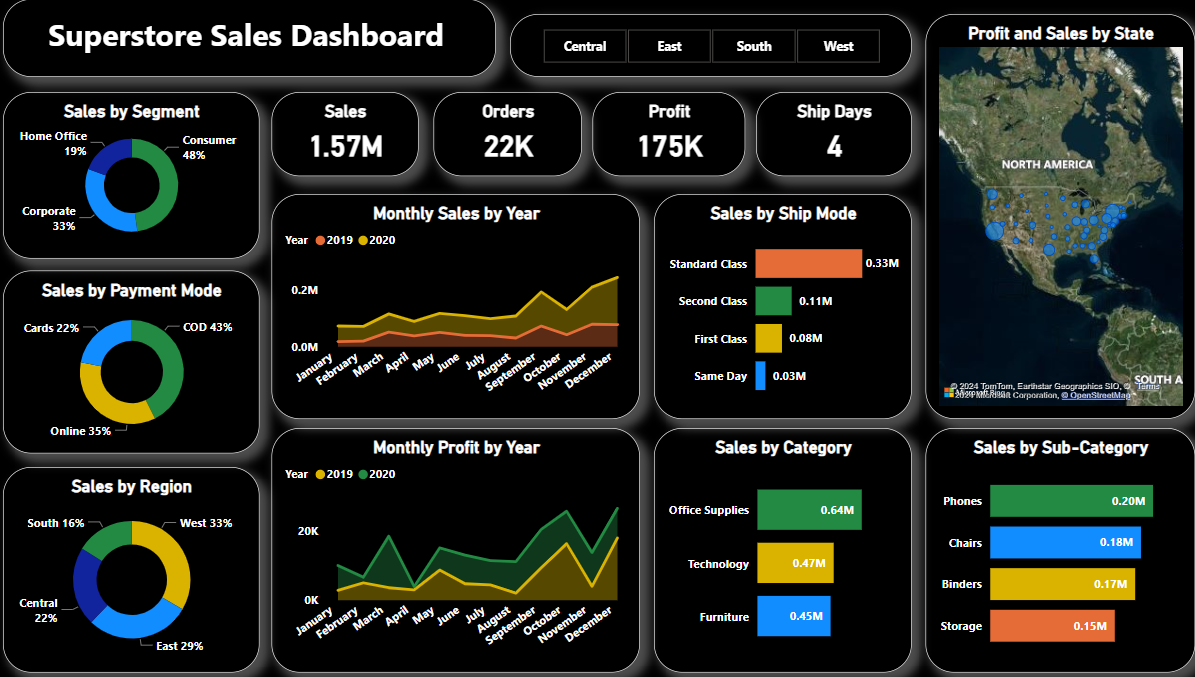

The dashboard page shown, as its layout file describes it:
{"tool":"powerbi","page":{"name":"Page 1","canvas":[1280,720],"ordinal":0},"visuals":[{"type":"clusteredBarChart","title":"Sales by Category","fields":{"Category":["SuperStore_Sales_Dataset.Category"],"Y":["Sum(SuperStore_Sales_Dataset.Sales)"]},"box":[705.7,454.6,273.4,259.1],"z":0},{"type":"clusteredBarChart","title":"Sales by Sub-Category","fields":{"Category":["SuperStore_Sales_Dataset.Sub-Category"],"Y":["Sum(SuperStore_Sales_Dataset.Sales)"]},"box":[993.4,454.6,286.1,259.1],"z":1000},{"type":"clusteredBarChart","title":"Sales by Ship Mode","fields":{"Category":["SuperStore_Sales_Dataset.Ship Mode"],"Y":["Sum(SuperStore_Sales_Dataset.Sales)"]},"box":[705.7,206.6,273.4,238.4],"z":2000},{"type":"stackedAreaChart","title":"Monthly Sales by Year","fields":{"Y":["Sum(SuperStore_Sales_Dataset.Sales)"],"Category":["SuperStore_Sales_Dataset.Order Date.Variation.Date Hierarchy.Month"],"Series":["SuperStore_Sales_Dataset.Order Date.Variation.Date Hierarchy.Year"]},"box":[300.4,206.6,391,238.4],"z":3000},{"type":"stackedAreaChart","title":"Monthly Profit by Year","fields":{"Category":["SuperStore_Sales_Dataset.Order Date.Variation.Date Hierarchy.Month"],"Series":["SuperStore_Sales_Dataset.Order Date.Variation.Date Hierarchy.Year"],"Y":["Sum(SuperStore_Sales_Dataset.Profit)"]},"box":[300.4,454.6,391,259.1],"z":4000},{"type":"map","title":"Profit and Sales by State","fields":{"Category":["SuperStore_Sales_Dataset.State"],"Size":["Sum(SuperStore_Sales_Dataset.Sales)"]},"box":[993.4,15.9,286.1,429.1],"z":5000},{"type":"donutChart","title":"Sales by Segment","fields":{"Category":["SuperStore_Sales_Dataset.Segment"],"Y":["Sum(SuperStore_Sales_Dataset.Sales)"]},"box":[15.9,98.5,271.8,176.4],"z":6000},{"type":"donutChart","title":"Sales by Payment Mode","fields":{"Category":["SuperStore_Sales_Dataset.Payment Mode"],"Y":["Sum(SuperStore_Sales_Dataset.Sales)"]},"box":[15.9,287.7,271.8,193.9],"z":7000},{"type":"donutChart","title":"Sales by Region","fields":{"Category":["SuperStore_Sales_Dataset.Region"],"Y":["Sum(SuperStore_Sales_Dataset.Sales)"]},"box":[15.9,495.9,271.8,217.7],"z":8000},{"type":"slicer","fields":{"Values":["SuperStore_Sales_Dataset.Region"]},"box":[553.1,15.9,426,66.8],"z":9000},{"type":"textbox","box":[15.9,0,522.9,82.6],"z":10000},{"type":"card","title":"Sales","fields":{"Values":["Sum(SuperStore_Sales_Dataset.Sales)"]},"box":[300.4,98.5,155.8,89],"z":11000},{"type":"card","title":"Orders","fields":{"Values":["Sum(SuperStore_Sales_Dataset.Quantity)"]},"box":[472.1,98.5,157.4,89],"z":12000},{"type":"card","title":"Profit","fields":{"Values":["Sum(SuperStore_Sales_Dataset.Profit)"]},"box":[640.5,98.5,162.1,89],"z":13000},{"type":"card","title":"Ship Days","fields":{"Values":["Avg(SuperStore_Sales_Dataset.AvgDelivery)"]},"box":[813.8,98.5,165.3,89],"z":14000}]}

Visuals, with their boxes in screenshot pixels (x1, y1, x2, y2), scaled from the page's 1280x720 canvas onto the 1195x677 screenshot:
"Sales by Category" clusteredBarChart: [x1=659, y1=427, x2=914, y2=671]
"Sales by Sub-Category" clusteredBarChart: [x1=927, y1=427, x2=1194, y2=671]
"Sales by Ship Mode" clusteredBarChart: [x1=659, y1=194, x2=914, y2=418]
"Monthly Sales by Year" stackedAreaChart: [x1=280, y1=194, x2=645, y2=418]
"Monthly Profit by Year" stackedAreaChart: [x1=280, y1=427, x2=645, y2=671]
"Profit and Sales by State" map: [x1=927, y1=15, x2=1194, y2=418]
"Sales by Segment" donutChart: [x1=15, y1=93, x2=269, y2=258]
"Sales by Payment Mode" donutChart: [x1=15, y1=271, x2=269, y2=453]
"Sales by Region" donutChart: [x1=15, y1=466, x2=269, y2=671]
slicer - SuperStore_Sales_Dataset.Region: [x1=516, y1=15, x2=914, y2=78]
textbox: [x1=15, y1=0, x2=503, y2=78]
"Sales" card: [x1=280, y1=93, x2=426, y2=176]
"Orders" card: [x1=441, y1=93, x2=588, y2=176]
"Profit" card: [x1=598, y1=93, x2=749, y2=176]
"Ship Days" card: [x1=760, y1=93, x2=914, y2=176]
